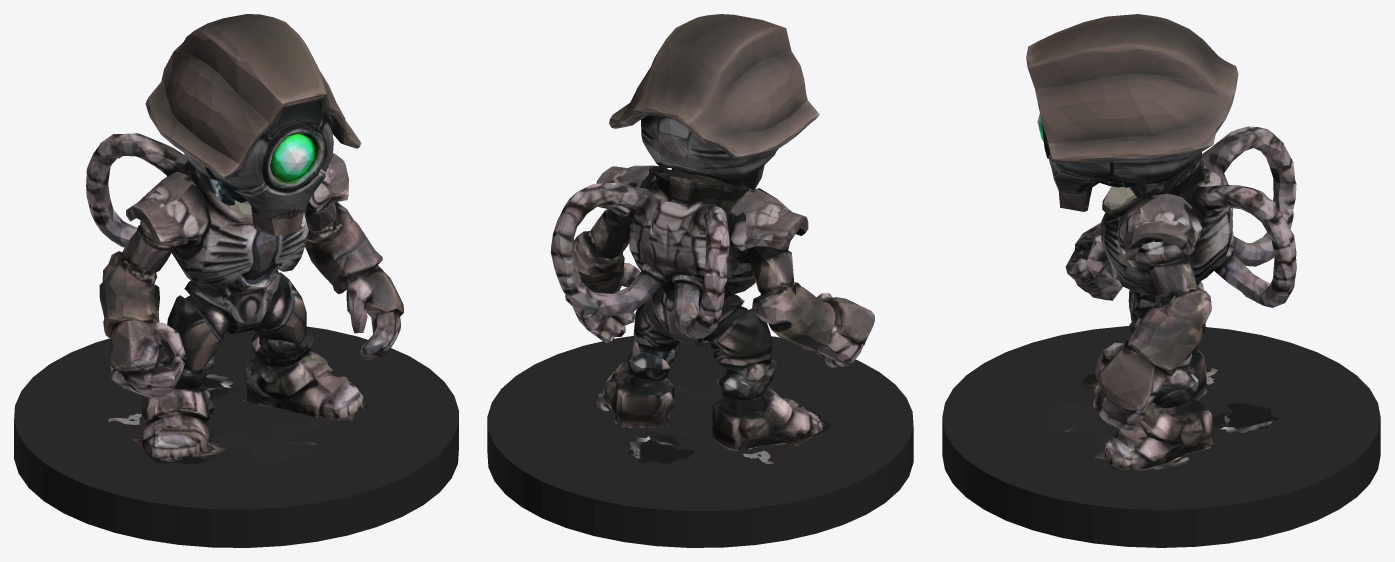
Rendered from ht-deathmark.glb.
3 views of the same model, side by side, from view 1: azimuth 30°, elevation 25°; view 2: azimuth 150°, elevation 25°; view 3: azimuth 270°, elevation 25° (orthographic). The views are drawn at different scales.
Parts seen in each view (by area): view 1: figure, base; view 2: figure, base; view 3: figure, base.
Boxes of the visible parts, bbox=[...] form: figure: bbox=[86, 14, 403, 464]; base: bbox=[14, 326, 458, 547]; figure: bbox=[550, 14, 874, 464]; base: bbox=[487, 336, 913, 547]; figure: bbox=[1026, 14, 1296, 470]; base: bbox=[942, 326, 1380, 547].
Size of the model in its own units: 1.26 by 1.37 by 1.26.
2 materials, 1 textured.
